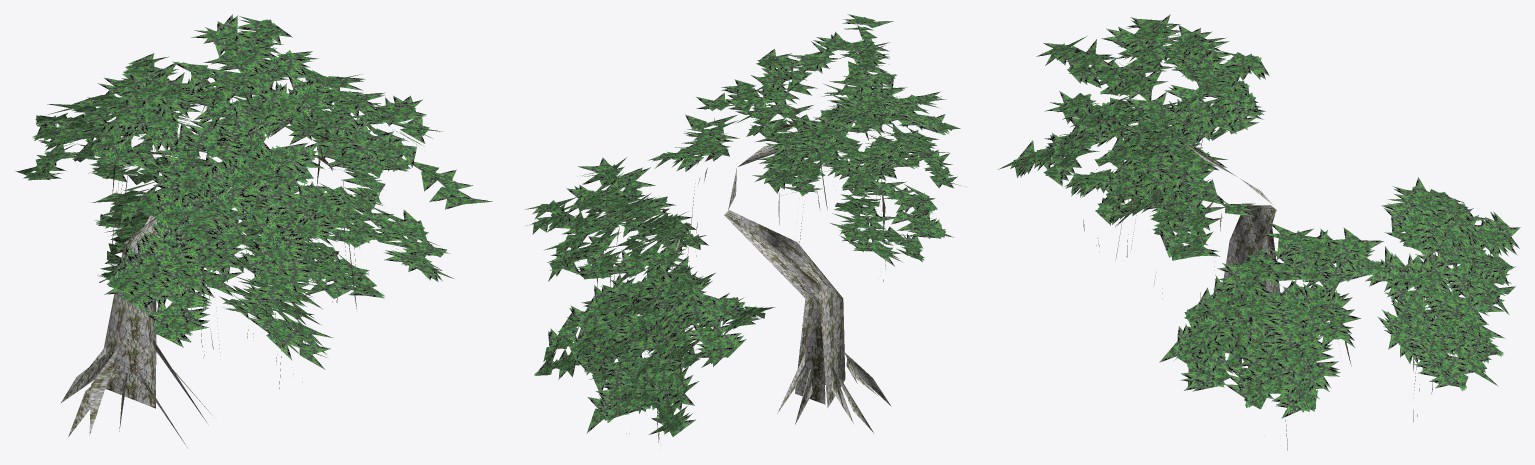
The model's file is Big_tree_01_C_001.glb.
3 views of the same model, side by side, from view 1: azimuth 30°, elevation 25°; view 2: azimuth 150°, elevation 25°; view 3: azimuth 270°, elevation 25° (orthographic). The views are drawn at different scales.
Parts seen in each view (by area): view 1: Big_tree_01_C.001; view 2: Big_tree_01_C.001; view 3: Big_tree_01_C.001.
Part boxes in pixels (x1,y1,x2,y2): Big_tree_01_C.001: [15, 14, 492, 447]; Big_tree_01_C.001: [525, 14, 965, 444]; Big_tree_01_C.001: [998, 14, 1520, 450].
Size of the model in its own units: 16.47 by 15.97 by 20.34.
Materials: 3 (3 with a texture image).
